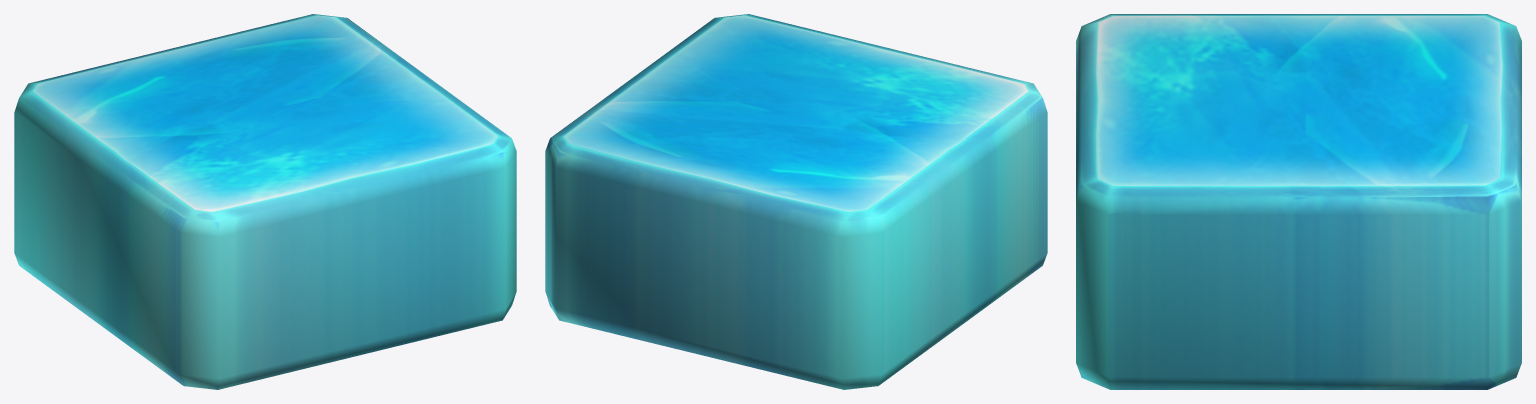
The model's file is ice.fbx.
3 views of the same model, side by side, from view 1: azimuth 30°, elevation 25°; view 2: azimuth 150°, elevation 25°; view 3: azimuth 270°, elevation 25° (orthographic). The views are drawn at different scales.
Visible parts, largest first — view 1: ice; view 2: ice; view 3: ice.
Part boxes in pixels (box(x1,y1,x2,y2)): ice: box(14, 14, 516, 389); ice: box(545, 14, 1047, 389); ice: box(1076, 14, 1521, 389).
Size of the model in its own units: 110 by 55.1 by 110.
